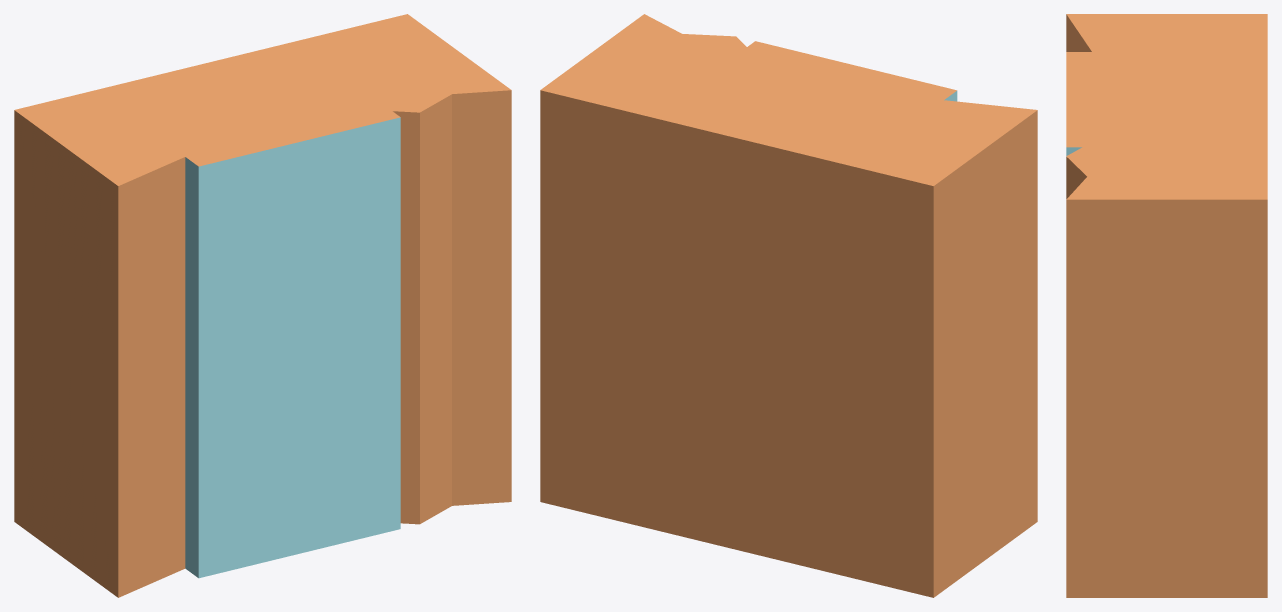
File: cliffBrown_waterfallMid.fbx
3 views of the same model, side by side, from view 1: azimuth 30°, elevation 25°; view 2: azimuth 150°, elevation 25°; view 3: azimuth 270°, elevation 25° (orthographic). The views are drawn at different scales.
Visible parts, largest first — view 1: cliffBrown_waterfallMid; view 2: cliffBrown_waterfallMid; view 3: cliffBrown_waterfallMid.
Boxes of the visible parts, left/top/right/bottom form: cliffBrown_waterfallMid: left=14, top=14, right=511, bottom=597; cliffBrown_waterfallMid: left=540, top=14, right=1037, bottom=597; cliffBrown_waterfallMid: left=1066, top=14, right=1267, bottom=597.
Bounding box in the file's own units: 10 × 10 × 4.58.
